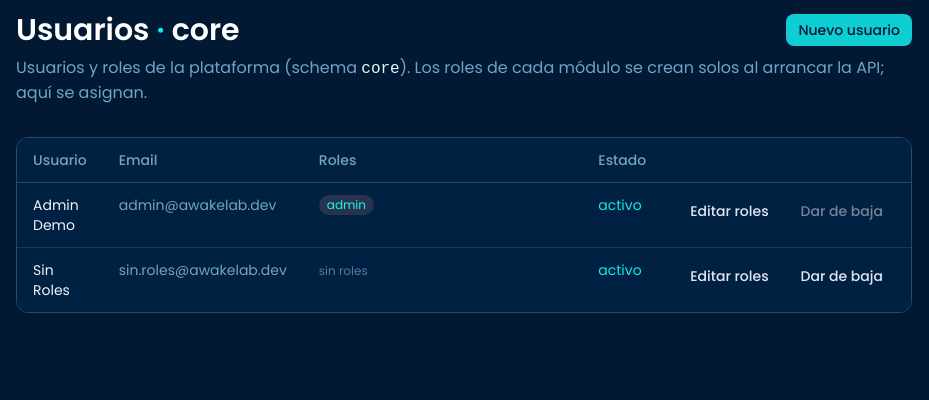
UsersPage (asignación de roles sin SQL — incremento D, bloque 2) › corta el acceso de un usuario, y nunca el propio
Expected: the button "Dar de baja" in the row of "Admin Demo" is disabled, [789,195,895,227]
Click the button "Dar de baja" in the row of "sin.roles@awakelab.dev".
click(842, 276)  # box [789,260,895,292]
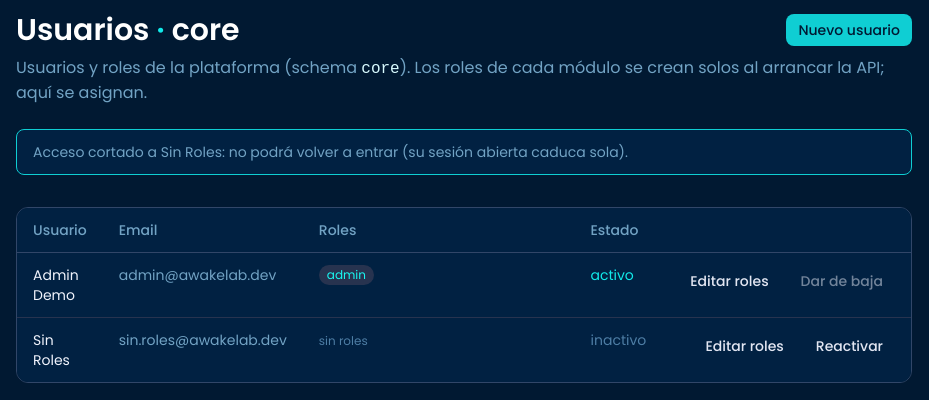
Now the message with test id "roles-notice" shows "Acceso cortado", box [33,142,628,162]
Now the text "inactivo" is shown, box [590,330,646,350]
Now the button "Reactivar" is shown, box [804,330,895,362]
